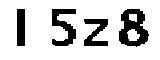5: (49, 7, 77, 51)
8: (118, 6, 153, 54)
I: (11, 2, 32, 53)
z: (82, 16, 113, 49)
